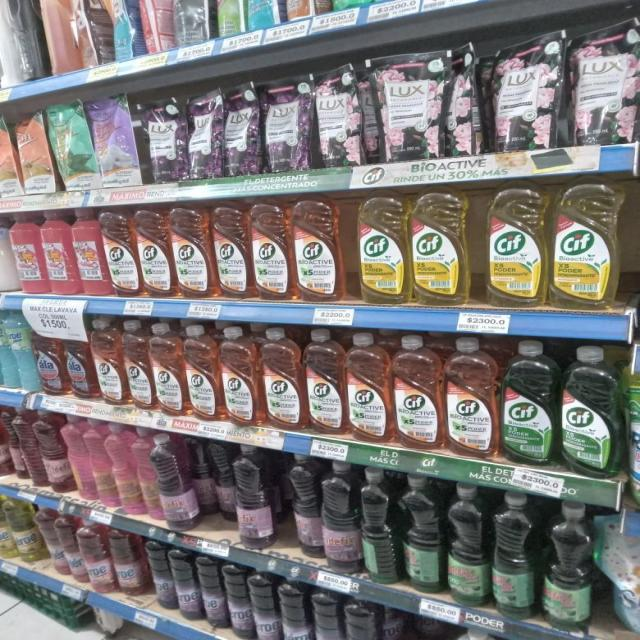ala_conc_rojo: (64, 320, 92, 401), (36, 322, 64, 396)
ala_crem_blanco: (0, 214, 12, 293)
cif_conc_bot_amarilla: (551, 177, 623, 310), (483, 180, 548, 307), (411, 186, 471, 306), (356, 189, 409, 305)
cif_conc_botella_roja: (445, 336, 499, 458), (393, 333, 442, 451), (294, 194, 345, 303), (346, 332, 392, 444), (262, 326, 304, 431), (305, 329, 345, 436), (252, 197, 292, 301), (220, 326, 259, 428), (172, 204, 212, 300), (213, 202, 250, 300), (184, 324, 219, 423), (137, 208, 171, 299), (150, 322, 182, 417), (104, 209, 136, 298), (92, 318, 122, 406), (123, 319, 150, 411)
cif_conc_botella_verde: (560, 344, 622, 478), (502, 340, 556, 466)
